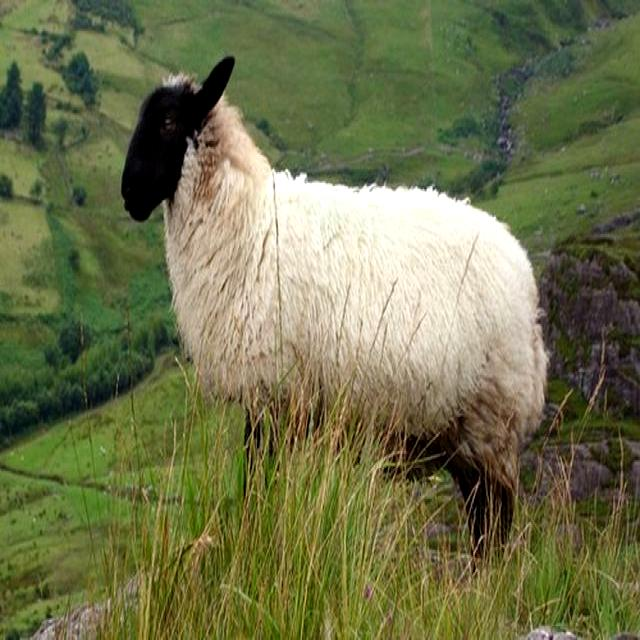sheep: (123, 51, 547, 569)
